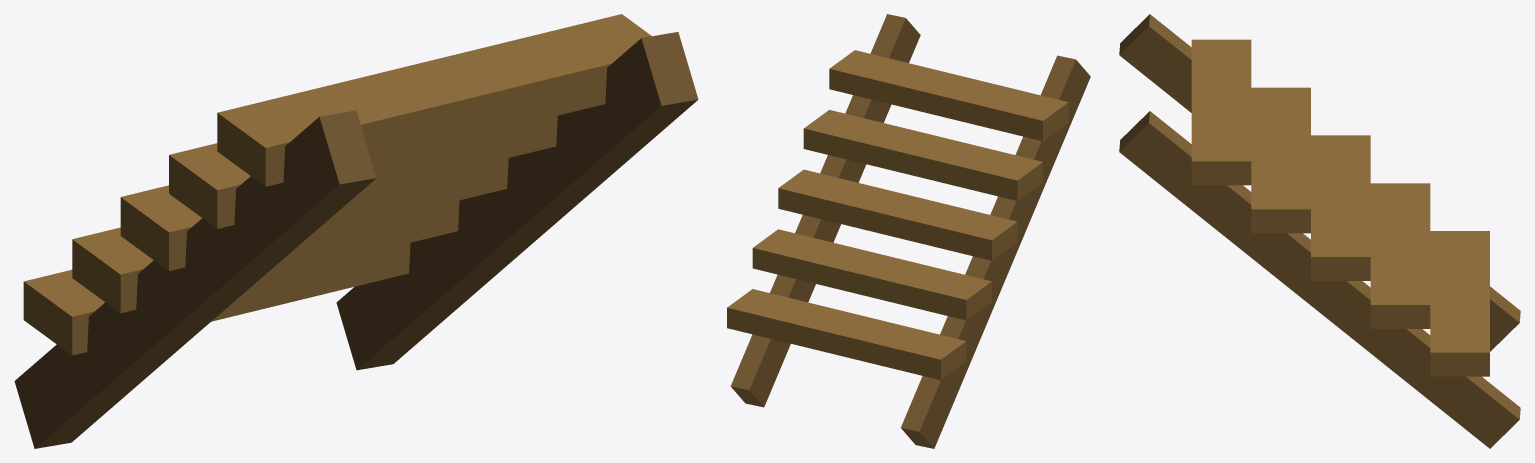
File: Human_Stairs.gltf
3 views of the same model, side by side, from view 1: azimuth 30°, elevation 25°; view 2: azimuth 150°, elevation 25°; view 3: azimuth 270°, elevation 25° (orthographic). The views are drawn at different scales.
Parts seen in each view (by area): view 1: SF_Prop_Human_Stairs; view 2: SF_Prop_Human_Stairs; view 3: SF_Prop_Human_Stairs.
Boxes of the visible parts, x1=… form: SF_Prop_Human_Stairs: x1=14, y1=14, x2=698, y2=448; SF_Prop_Human_Stairs: x1=727, y1=14, x2=1090, y2=448; SF_Prop_Human_Stairs: x1=1119, y1=14, x2=1520, y2=448.
Size of the model in its own units: 0.0263 by 0.0332 by 0.0366.
Materials: 1 (1 with a texture image).
